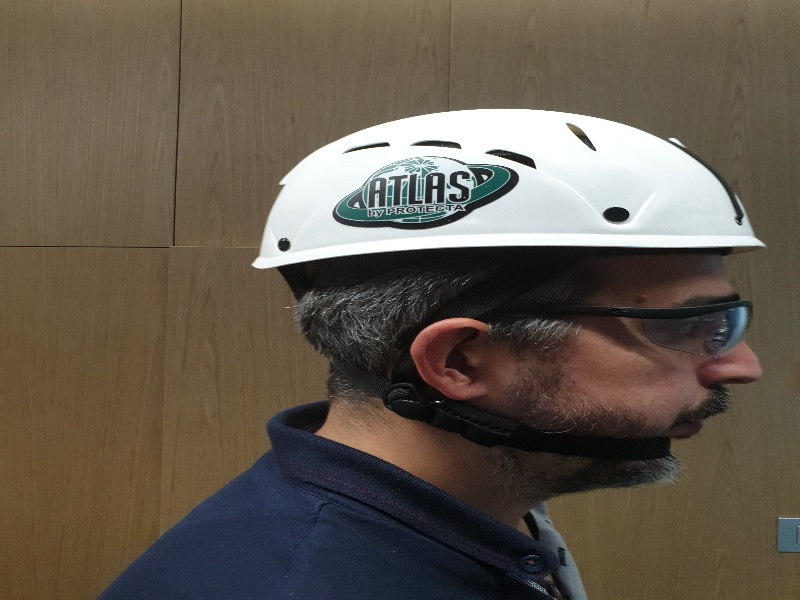Baret: (254, 107, 771, 259)
Gozluk: (527, 302, 755, 354)
